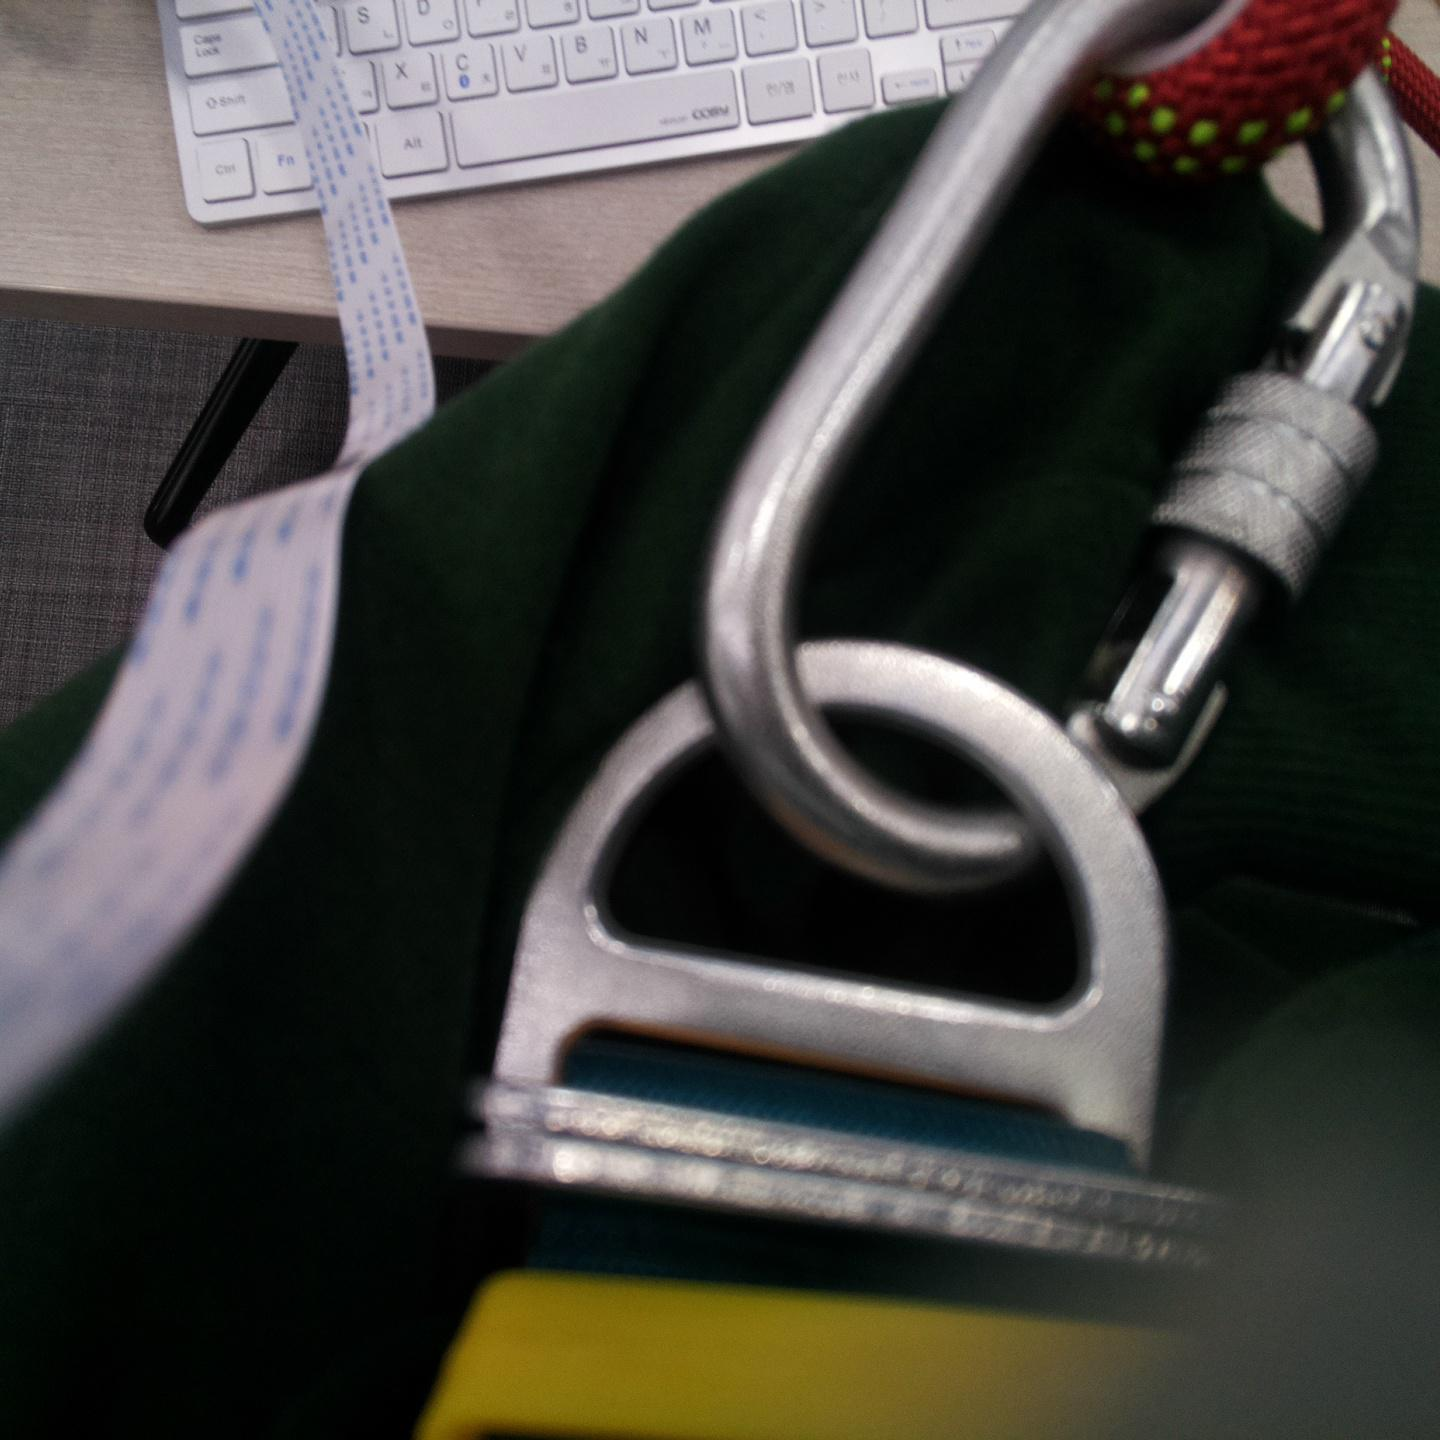SUCCESS: (713, 156, 1414, 644), (708, 647, 803, 688)
